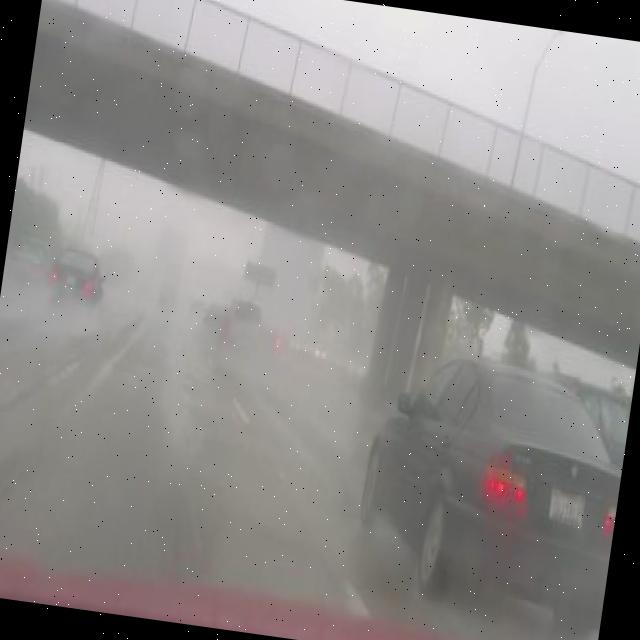car: (353, 344, 635, 632), (51, 245, 110, 306), (218, 297, 266, 352), (10, 232, 56, 282), (204, 298, 227, 330)
